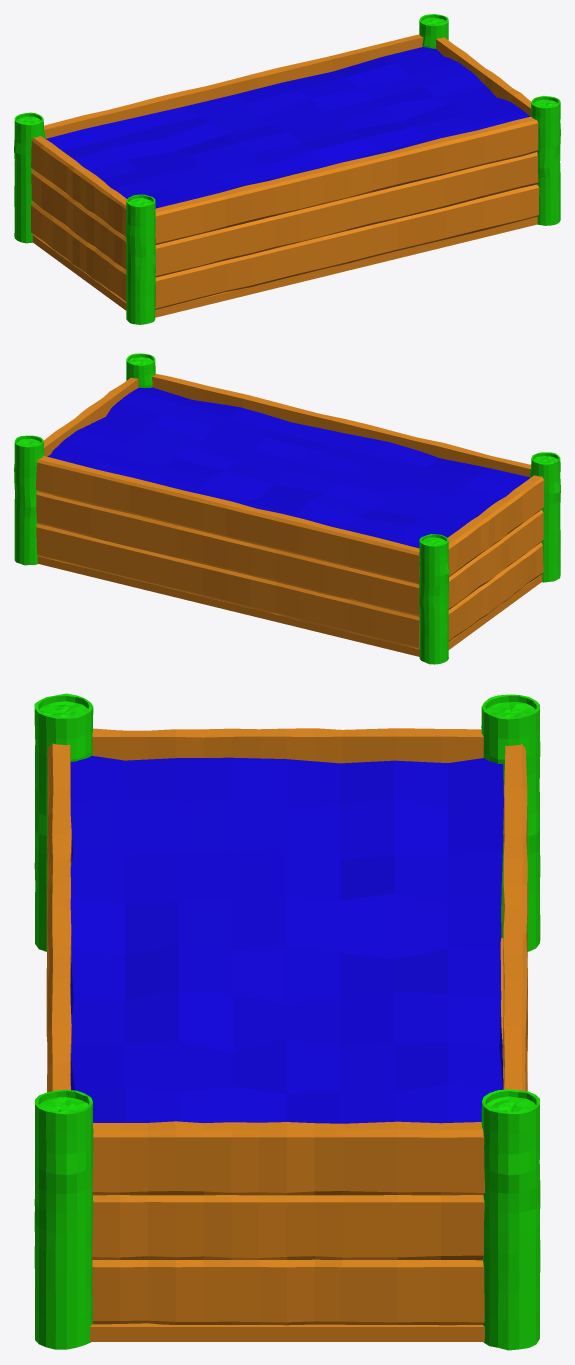
Rendered from Bed-1.fbx.
The picture shows the model from 3 angles, top to bottom: view 1: azimuth 30°, elevation 25°; view 2: azimuth 150°, elevation 25°; view 3: azimuth 270°, elevation 25°; orthographic projection. The views are drawn at different scales.
Parts seen in each view (by area): view 1: Cube.007, Cube.009, Cube.006, Cylinder.002, Cube.010; view 2: Cube.007, Cube.009, Cube.006, Cylinder.002, Cube.010; view 3: Cube.009, Cube.006, Cylinder.002, Cube.007, Cube.010.
Boxes of the visible parts, box(x1,y1,x2,y2) form: Cube.007: box(44, 34, 539, 309); Cube.009: box(46, 47, 530, 208); Cube.006: box(31, 37, 531, 302); Cylinder.002: box(14, 14, 560, 324); Cube.010: box(32, 217, 537, 317); Cube.007: box(35, 374, 530, 648); Cube.009: box(47, 387, 529, 548); Cube.006: box(44, 377, 544, 641); Cylinder.002: box(14, 353, 560, 664); Cube.010: box(37, 556, 542, 656); Cube.009: box(70, 755, 503, 1123); Cube.006: box(92, 728, 484, 1325); Cylinder.002: box(34, 693, 540, 1350); Cube.007: box(46, 743, 527, 1092); Cube.010: box(90, 938, 503, 1341).
Size of the model in its own units: 808 by 211 by 408.
